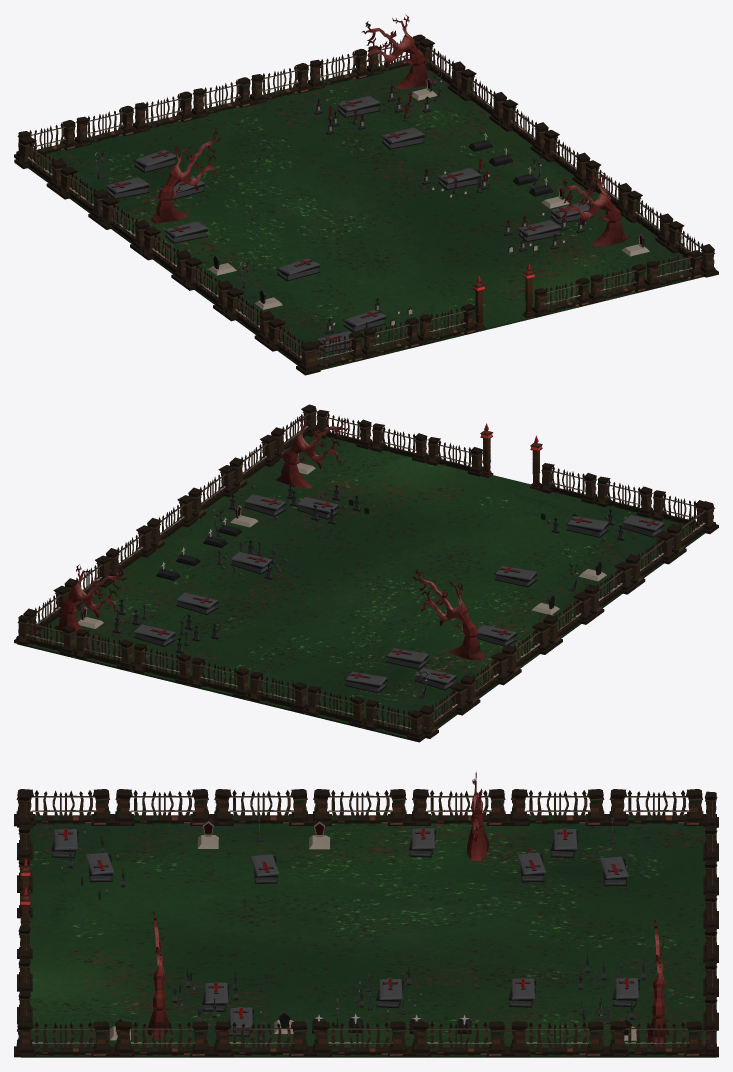
File: cementerio_primerescenario.fbx
The picture shows the model from 3 angles, top to bottom: view 1: azimuth 30°, elevation 25°; view 2: azimuth 150°, elevation 25°; view 3: azimuth 270°, elevation 25°; orthographic projection. The views are drawn at different scales.
Parts seen in each view (by area): view 1: terreno, valla4, valla3, vaya2, vaya5, valla1, arbol3, arbol1, arbol2; view 2: terreno, valla3, valla4, vaya2, vaya5, valla1, arbol3, arbol1, arbol2; view 3: terreno, vaya2, valla4, valla3, valla1, vaya5, arbol1, arbol2, arbol3, tapa5, tapa1, tapa9 (+9 smaller).
Boxes of the visible parts, x1=… form: terreno: x1=28, y1=65, x2=704, y2=369; valla4: x1=14, y1=136, x2=320, y2=375; valla3: x1=14, y1=34, x2=425, y2=159; vaya2: x1=418, y1=38, x2=718, y2=277; vaya5: x1=308, y1=304, x2=478, y2=370; valla1: x1=532, y1=250, x2=704, y2=317; arbol3: x1=151, y1=129, x2=221, y2=223; arbol1: x1=558, y1=172, x2=628, y2=246; arbol2: x1=361, y1=14, x2=432, y2=88; terreno: x1=17, y1=435, x2=704, y2=742; valla3: x1=14, y1=615, x2=424, y2=741; valla4: x1=419, y1=501, x2=718, y2=738; vaya2: x1=23, y1=404, x2=317, y2=639; vaya5: x1=537, y1=463, x2=707, y2=528; valla1: x1=313, y1=410, x2=483, y2=476; arbol3: x1=412, y1=569, x2=485, y2=660; arbol1: x1=276, y1=415, x2=349, y2=488; arbol2: x1=54, y1=564, x2=126, y2=636; terreno: x1=21, y1=823, x2=716, y2=1057; vaya2: x1=14, y1=1021, x2=705, y2=1057; valla4: x1=14, y1=789, x2=705, y2=826; valla3: x1=703, y1=791, x2=718, y2=1057; valla1: x1=17, y1=925, x2=32, y2=1043; vaya5: x1=17, y1=792, x2=32, y2=918; arbol1: x1=147, y1=911, x2=169, y2=1038; arbol2: x1=648, y1=919, x2=668, y2=1046; arbol3: x1=467, y1=772, x2=488, y2=860; tapa5: x1=511, y1=978, x2=534, y2=999; tapa1: x1=85, y1=852, x2=114, y2=874; tapa9: x1=516, y1=852, x2=546, y2=874.
Bounding box in the file's own units: 3266 × 589 × 4052.
4 materials, 4 textured.
